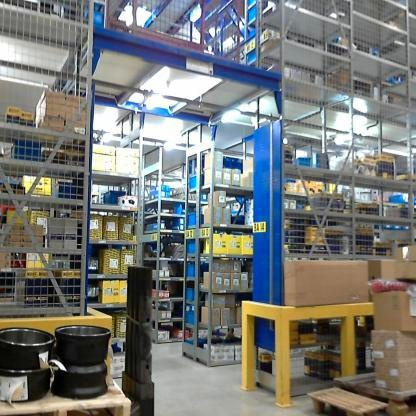pallets: (0, 373, 134, 416), (306, 379, 416, 415)
